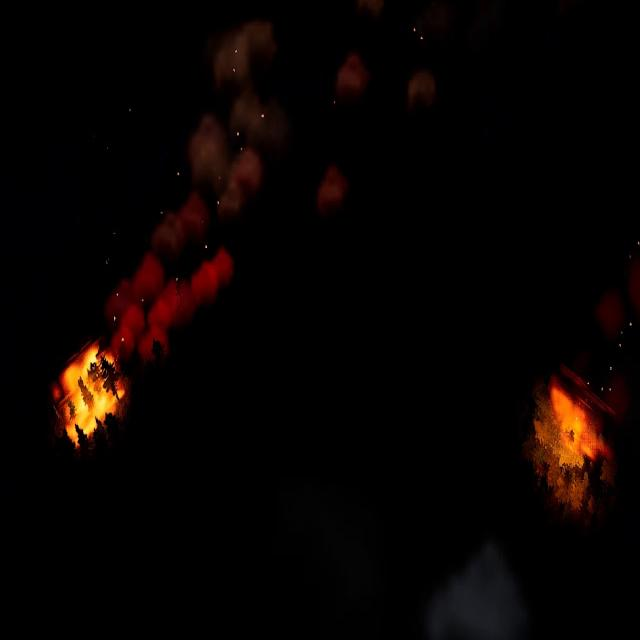fire: (57, 344, 123, 440), (549, 376, 611, 465)
smoke: (100, 15, 274, 365), (426, 541, 532, 638), (334, 48, 366, 98), (317, 164, 348, 214), (406, 72, 438, 105)
